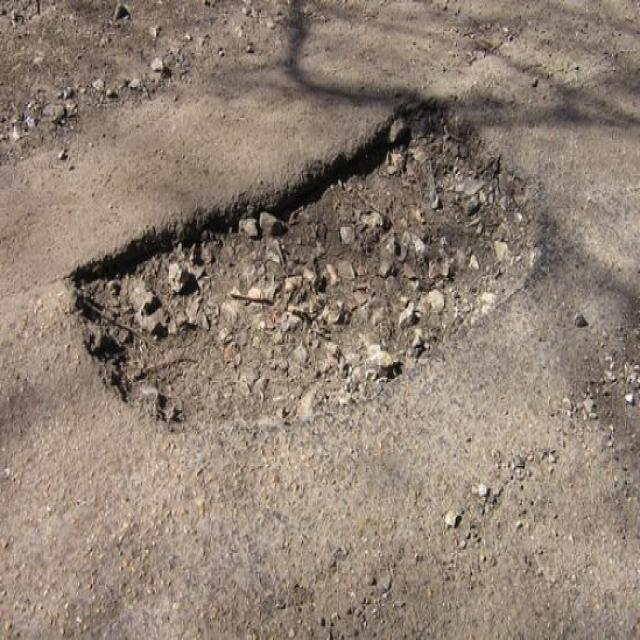pothole: (66, 101, 558, 435)
